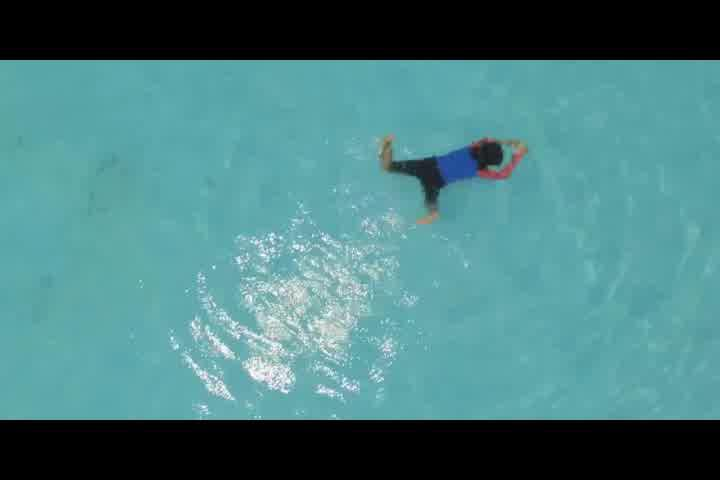swimmer: (380, 124, 534, 228)
